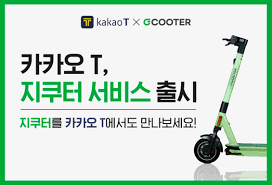kick_body: (229, 142, 266, 156)
kick_handler: (223, 36, 249, 54)
kick_neck: (215, 54, 242, 126)
kick_wheel: (195, 134, 222, 164)
